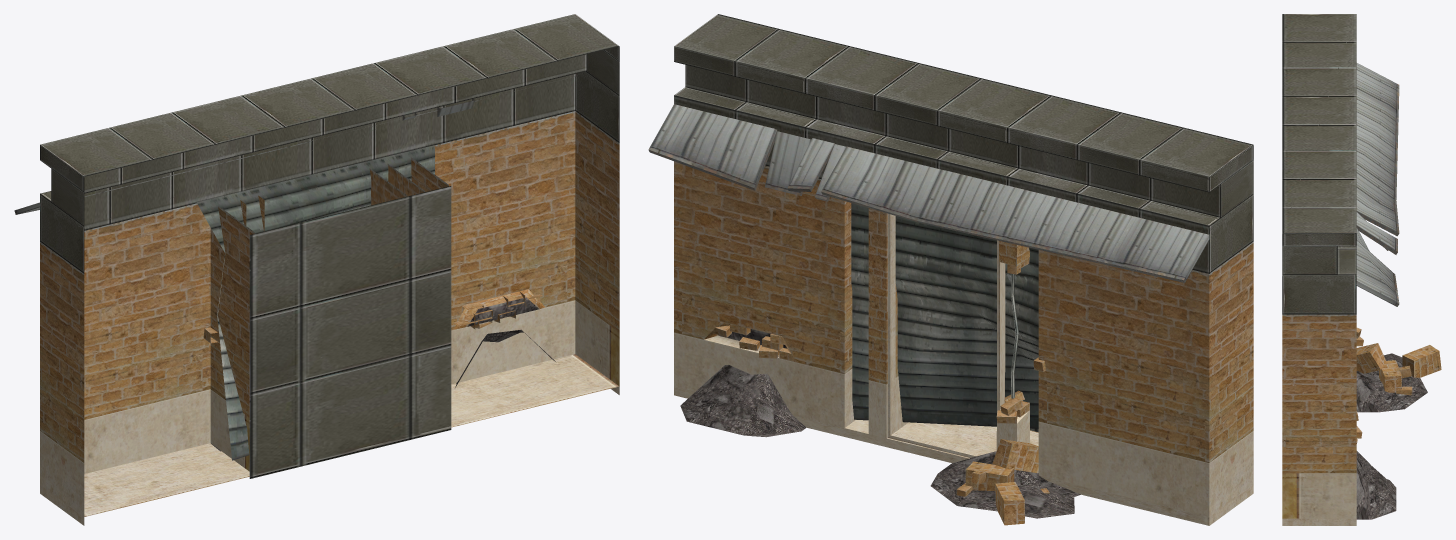
The model's file is Store_front_25.fbx.
The picture shows the model from 3 angles, left to right: view 1: azimuth 30°, elevation 25°; view 2: azimuth 150°, elevation 25°; view 3: azimuth 270°, elevation 25°; orthographic projection. The views are drawn at different scales.
Parts seen in each view (by area): view 1: Store_front_25; view 2: Store_front_25; view 3: Store_front_25.
Boxes of the visible parts, box(x1,y1,x2,y2) form: Store_front_25: box(14, 14, 619, 525); Store_front_25: box(648, 14, 1253, 525); Store_front_25: box(1282, 14, 1441, 525).
Size of the model in its own units: 700 by 436 by 215.
